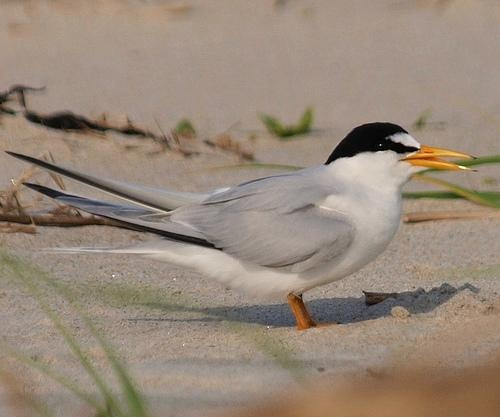bird: (13, 122, 478, 333)
